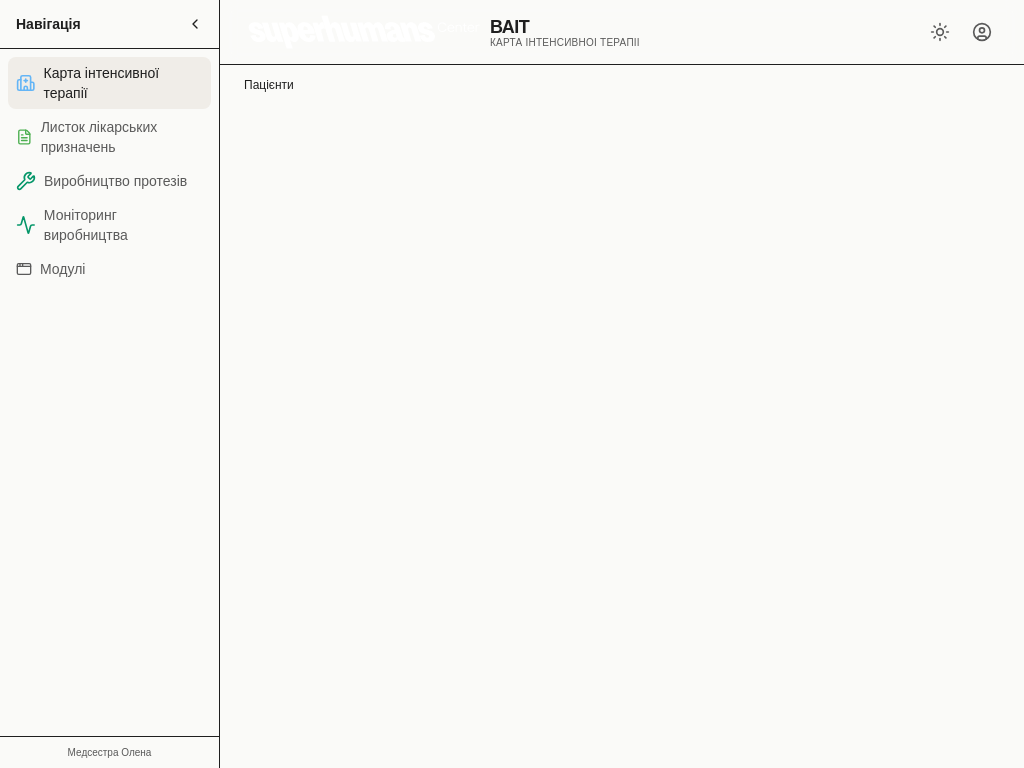
it: GlobalLayout - header › nurse sees nurse routes in sidebar
Check: the text "ВАІТ" is shown, box [490,17,529,37]
Click the button named "Меню користувача" at (982, 32), box [964,14,1000,50]
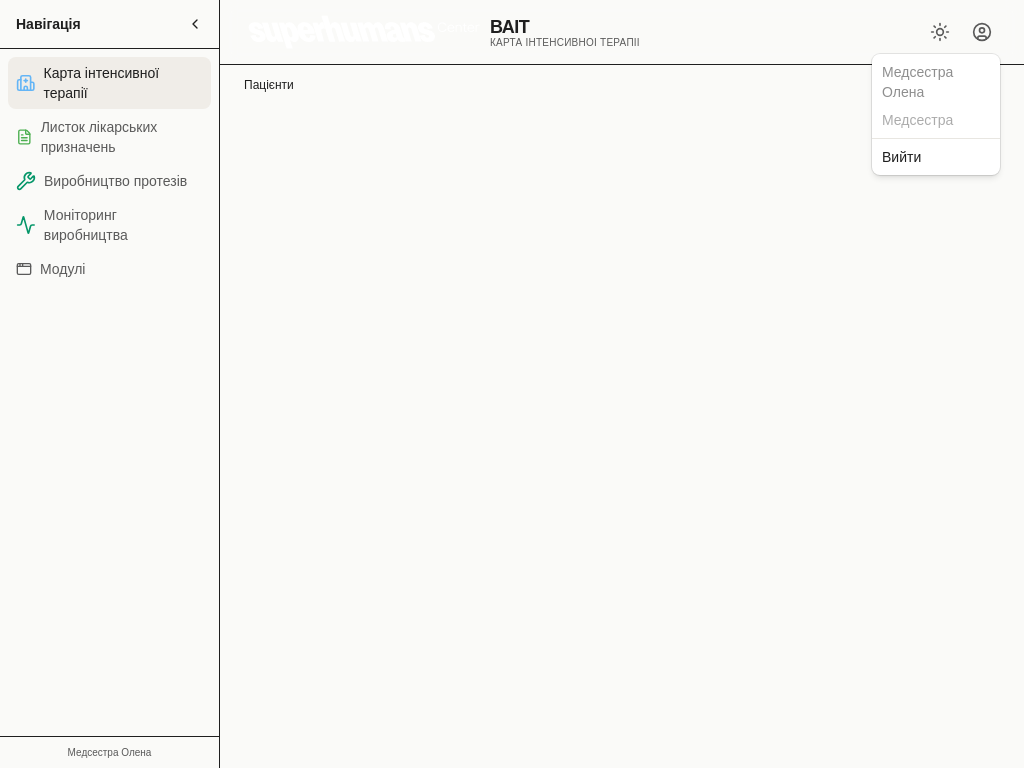
Check: the menu item "Медсестра" is shown, box [882,112,953,128]
